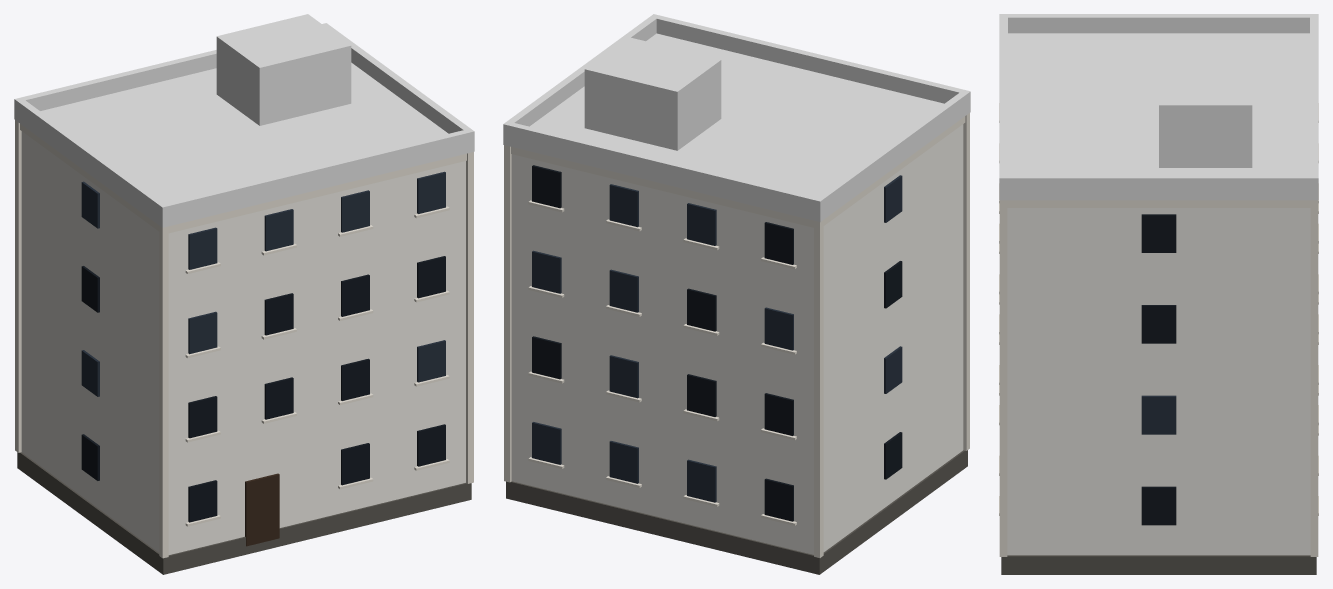
File: office.glb
3 renders of one model, left to right at view 1: azimuth 30°, elevation 25°; view 2: azimuth 150°, elevation 25°; view 3: azimuth 270°, elevation 25°, orthographic. The views are drawn at different scales.
Parts seen in each view (by area): view 1: Walls, Roof, Windows, Trim, Plinth, Door; view 2: Walls, Roof, Windows, Trim, Plinth; view 3: Walls, Roof, Trim, Plinth, Windows.
Boxes of the visible parts, x1,y1,x2,y2 form: Walls: (21,131,465,554); Roof: (14,14,474,227); Windows: (81,171,445,522); Trim: (15,120,473,558); Plinth: (17,452,471,574); Door: (245,473,279,546); Walls: (511,124,963,554); Roof: (503,14,970,221); Windows: (532,165,902,521); Trim: (504,113,969,557); Plinth: (506,450,967,574); Walls: (1007,208,1310,555); Roof: (999,14,1318,200); Trim: (999,103,1318,556); Plinth: (1001,555,1316,574); Windows: (1141,214,1176,525).
Size of the model in its own units: 11.25 by 14.2 by 9.26.
